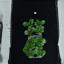leaf: (23, 48, 30, 56), (39, 25, 45, 32), (40, 38, 47, 44), (29, 18, 34, 26), (40, 50, 46, 56), (34, 49, 40, 55), (40, 19, 45, 25), (34, 22, 39, 28), (34, 28, 40, 33), (30, 42, 35, 48), (30, 51, 36, 56), (25, 40, 30, 46), (36, 43, 41, 48), (23, 22, 29, 26), (24, 30, 30, 34), (30, 28, 34, 34), (36, 19, 40, 24), (30, 39, 36, 42)
